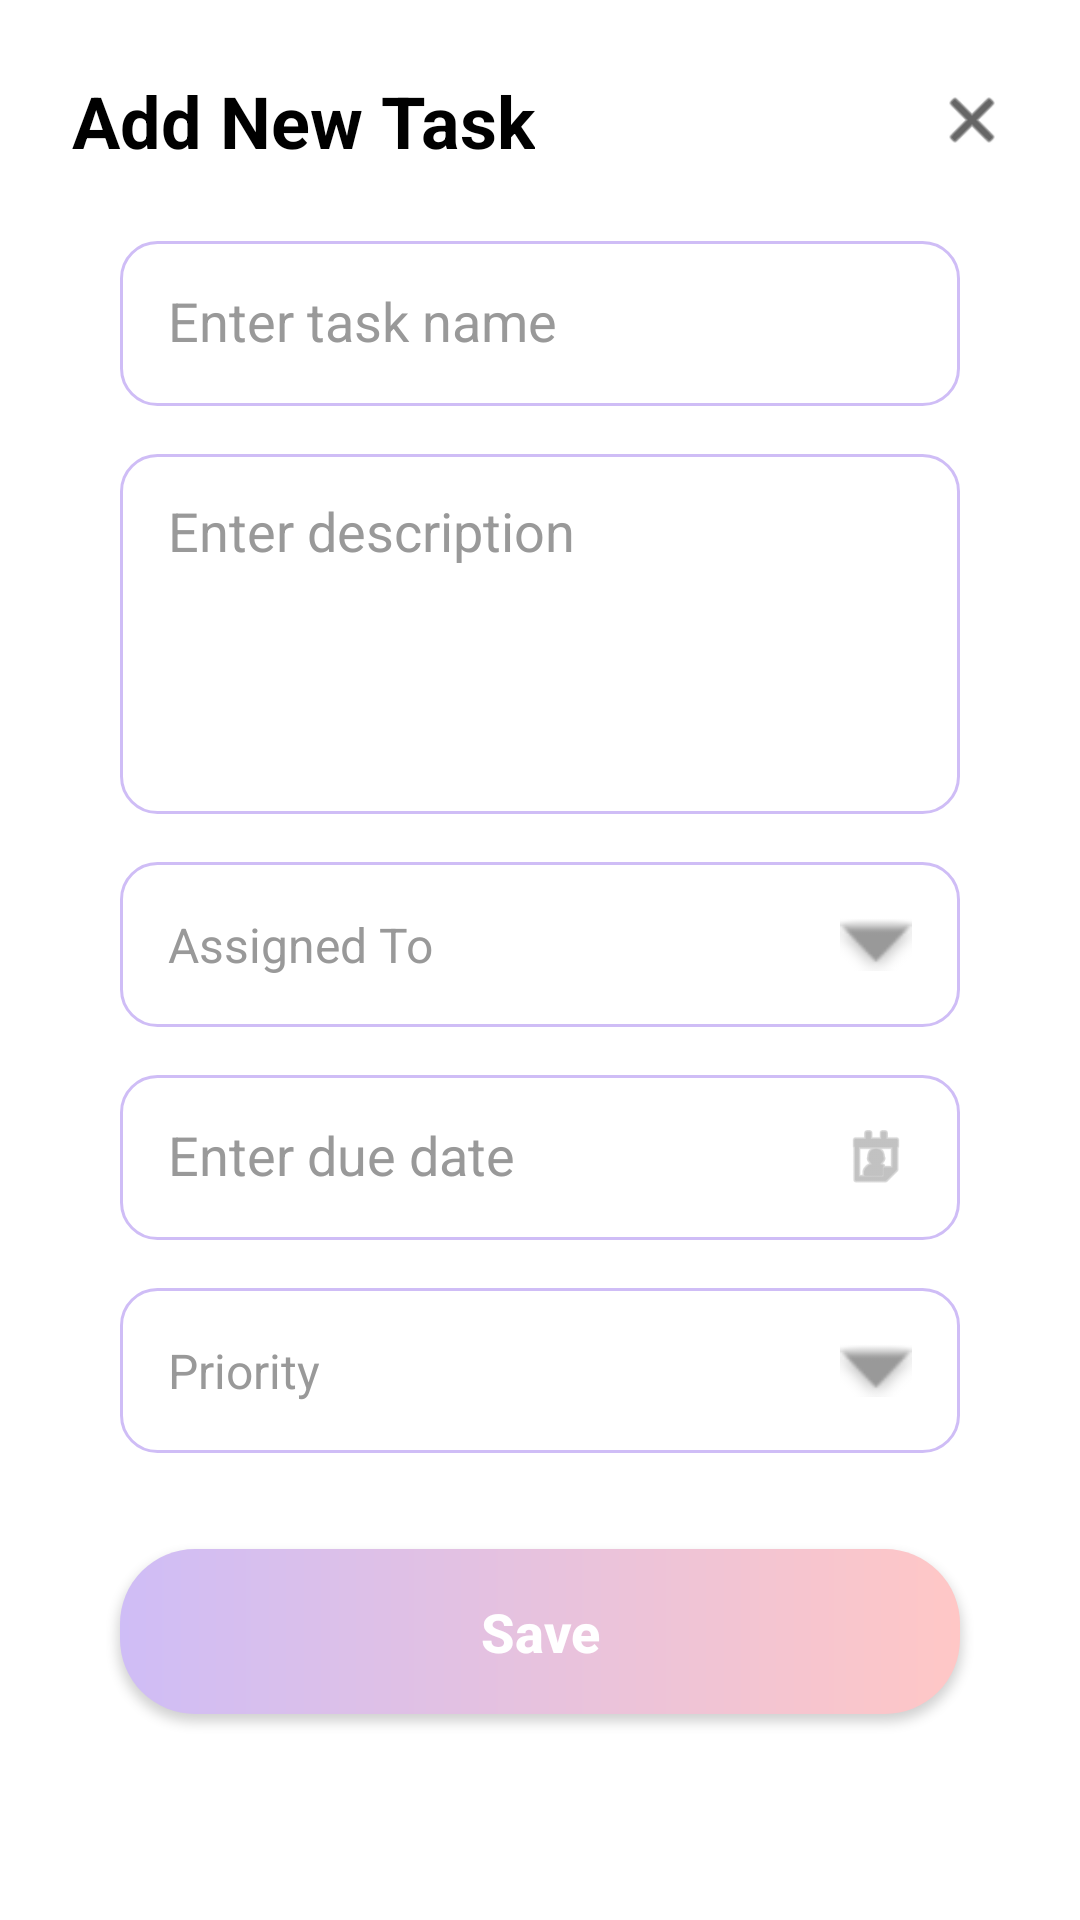

Icon click points for this 1080px×1920px phone screenshot, format (x=x, y=y):
arrow down float: (x=876, y=943), (x=876, y=1369)
calendar: (x=876, y=1156)
close clear cancel: (x=972, y=120)
